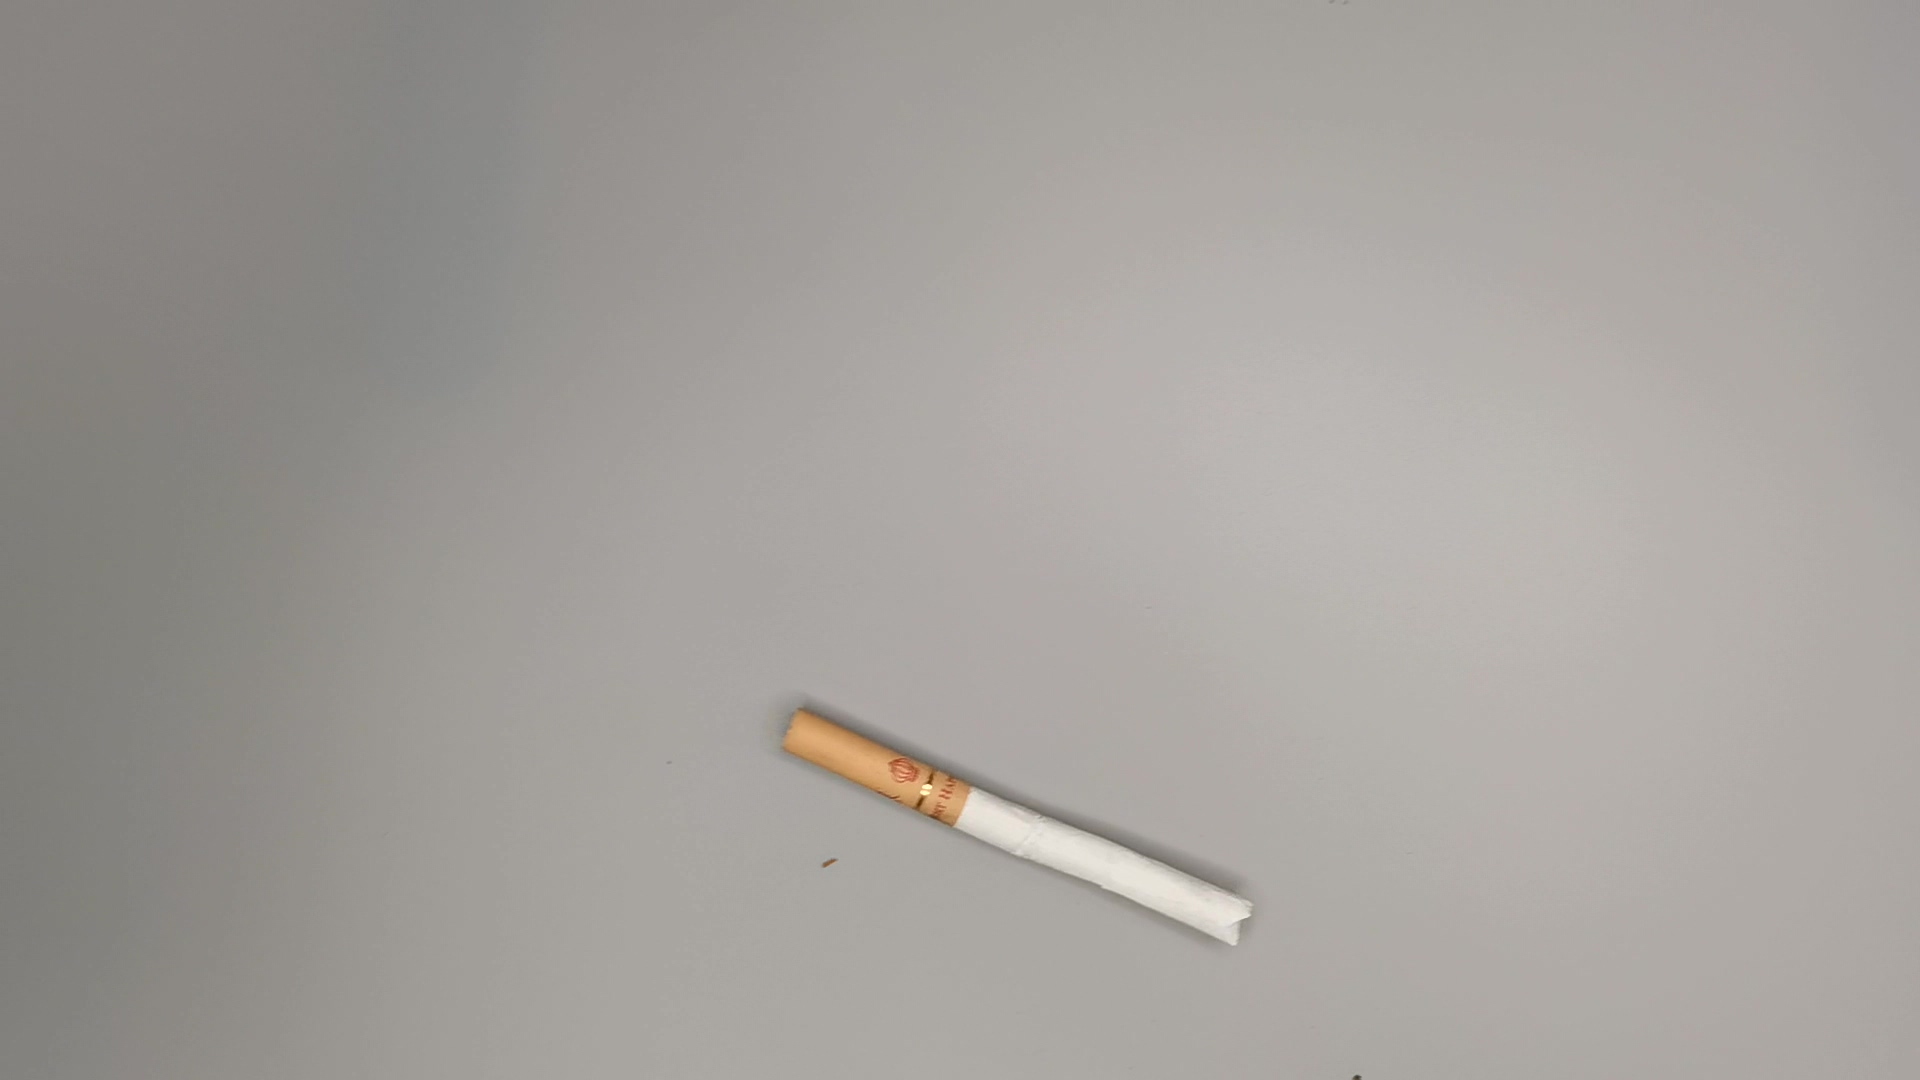cigarette: (778, 702, 1267, 957)
